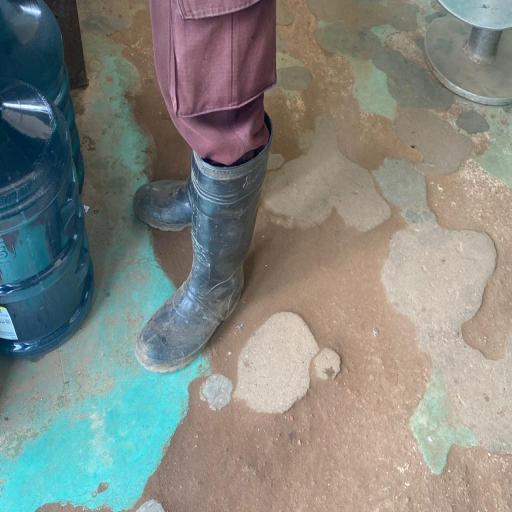Safety-shoes: (132, 114, 272, 376), (132, 171, 192, 233)
